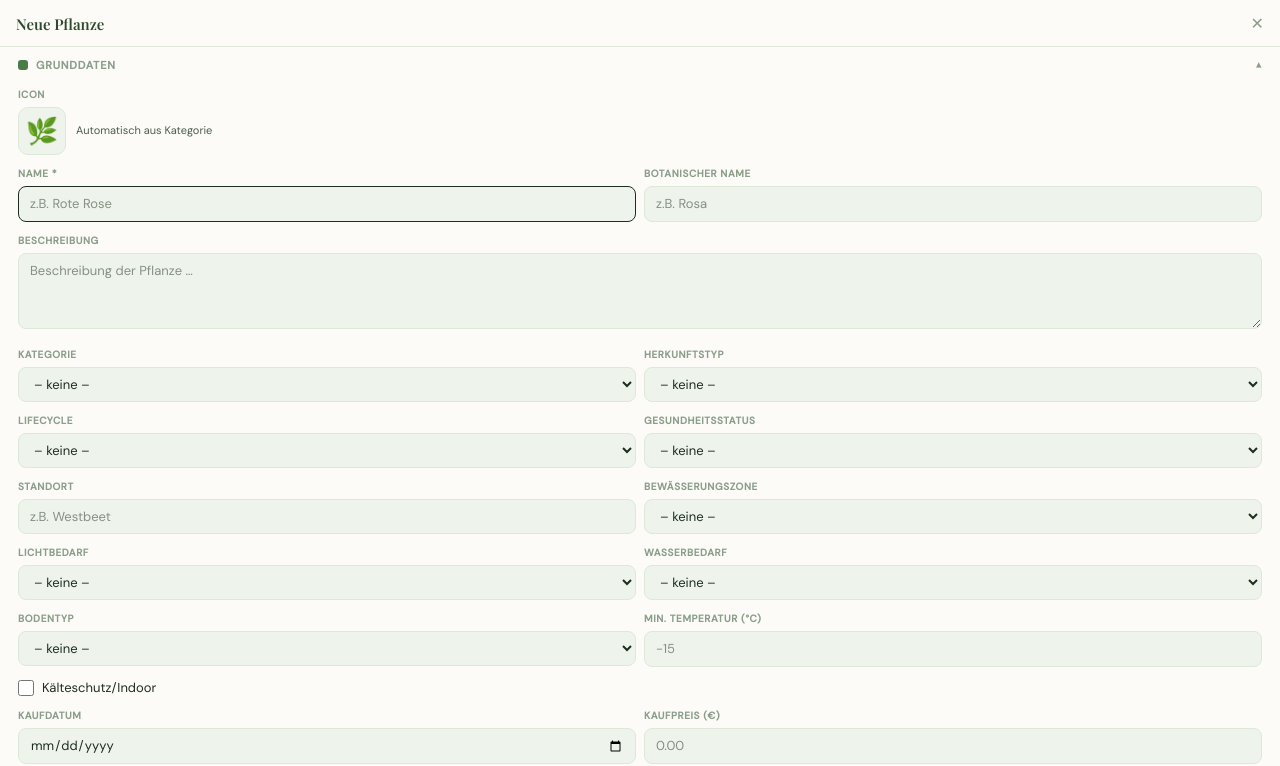
Test case: PlantEditDialog — icon picker (AC #3) › opens picker on icon click
Click the button with test id "icon-preview": (42, 131) [18,107,66,155]
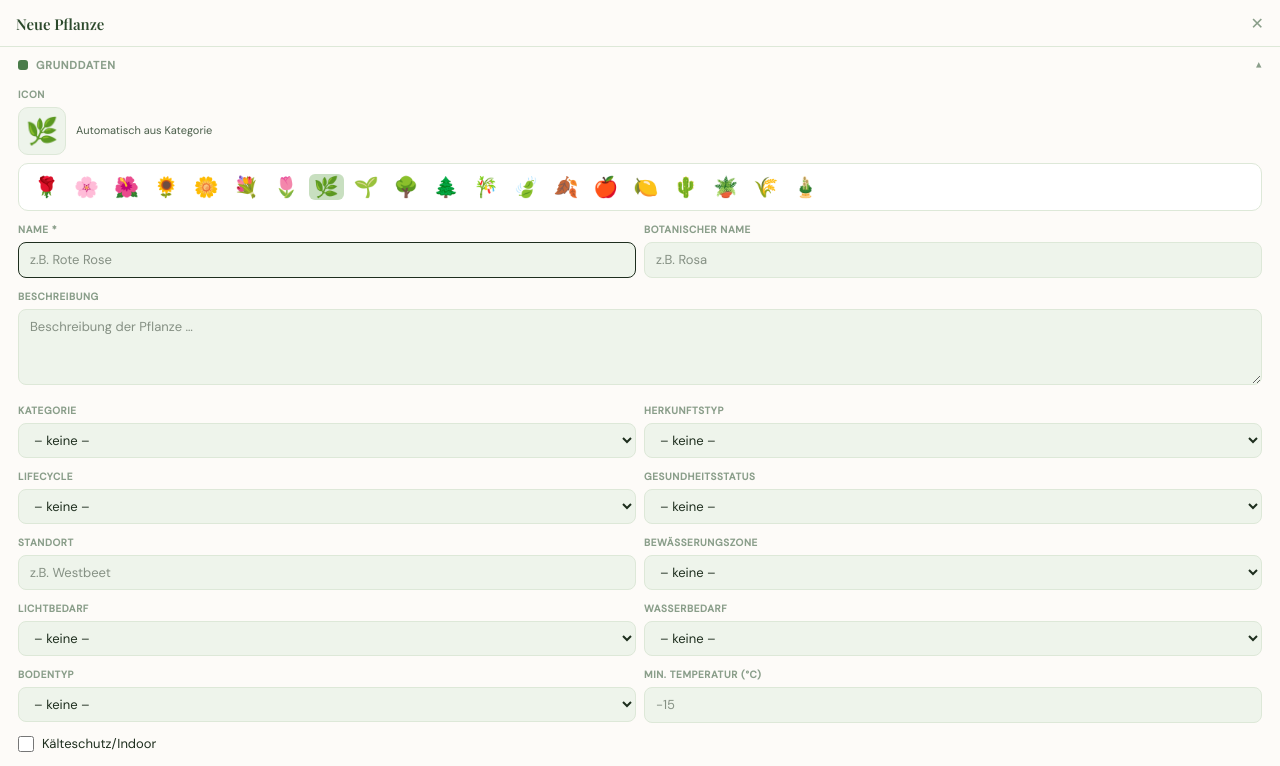
Check: the element with test id "icon-picker" is shown, box [18,163,1262,211]
